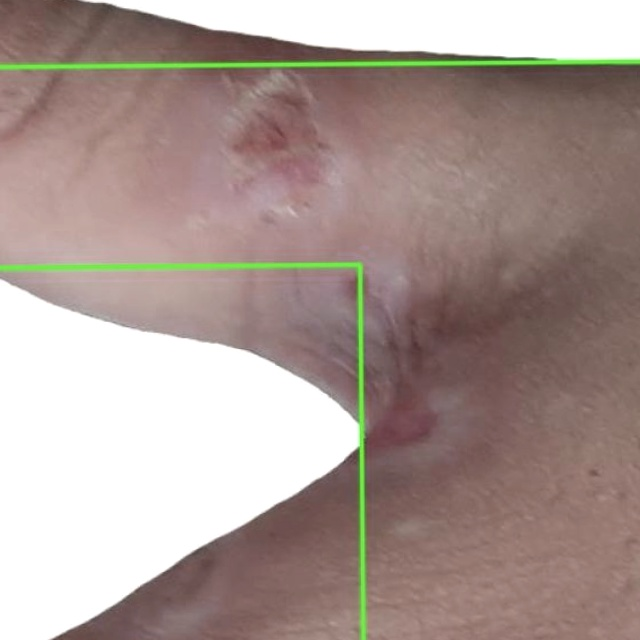Scabies: (0, 264, 363, 639)
